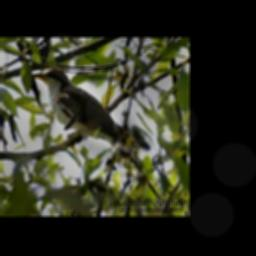Cuckoo: (30, 67, 160, 199)
